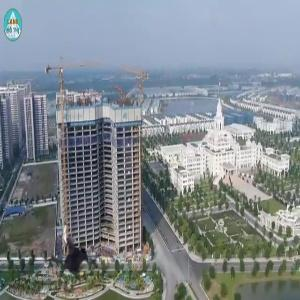drone: (39, 213, 116, 290)
